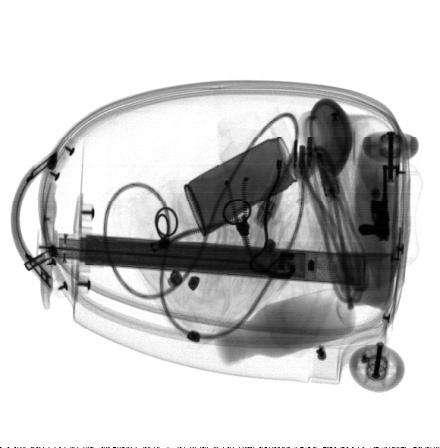Gun: (358, 167, 389, 243)
